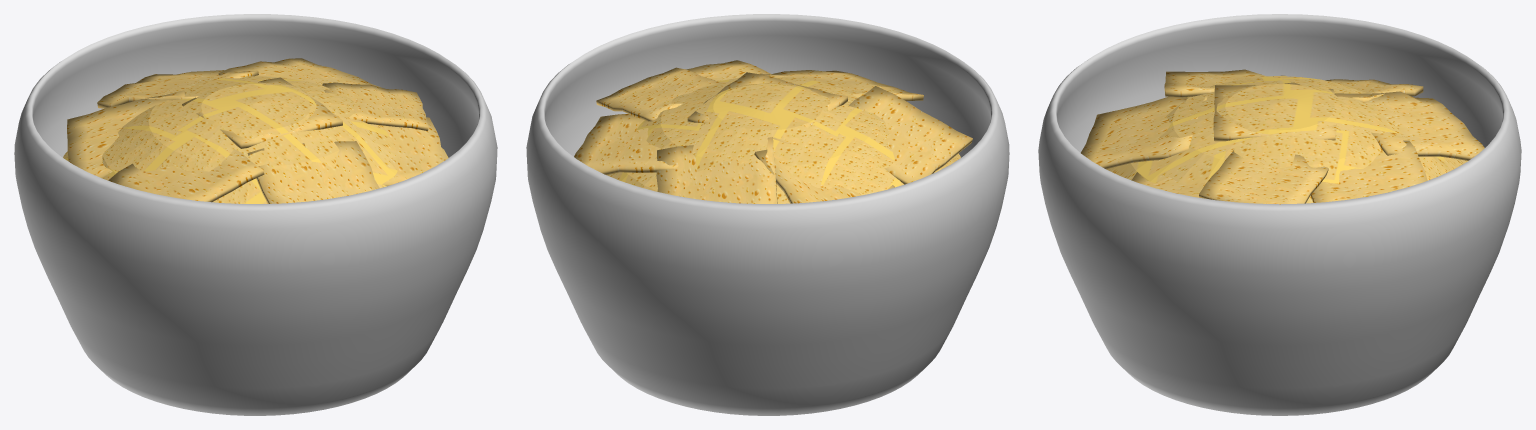
File: cheese_slice_bowl.fbx
The picture shows the model from 3 angles, left to right: view 1: azimuth 30°, elevation 25°; view 2: azimuth 150°, elevation 25°; view 3: azimuth 270°, elevation 25°; orthographic projection.
Visible parts, largest first — view 1: Sphere, Sphere.001, cheese_slice.003, cheese_slice.005, cheese_slice.004, cheese_slice.002, cheese_slice.007, cheese_slice.001, cheese_slice, cheese_slice.006; view 2: Sphere, Sphere.001, cheese_slice.005, cheese_slice.007, cheese_slice, cheese_slice.002, cheese_slice.004, cheese_slice.003, cheese_slice.006, cheese_slice.001; view 3: Sphere, Sphere.001, cheese_slice.007, cheese_slice.003, cheese_slice.002, cheese_slice, cheese_slice.005, cheese_slice.006, cheese_slice.004, cheese_slice.001.
Part boxes in pixels (box(x1,y1,x2,y2)): Sphere: box(14, 14, 497, 415); Sphere.001: box(63, 76, 448, 203); cheese_slice.003: box(247, 141, 379, 203); cheese_slice.005: box(108, 149, 264, 202); cheese_slice.004: box(67, 90, 185, 178); cheese_slice.002: box(322, 82, 428, 130); cheese_slice.007: box(97, 70, 258, 108); cheese_slice.001: box(382, 117, 446, 186); cheese_slice: box(218, 58, 380, 87); cheese_slice.006: box(182, 77, 342, 148); Sphere: box(526, 14, 1009, 415); Sphere.001: box(607, 76, 960, 203); cheese_slice.005: box(848, 86, 972, 184); cheese_slice.007: box(656, 137, 777, 203); cheese_slice: box(574, 114, 678, 175); cheese_slice.002: box(596, 67, 722, 121); cheese_slice.004: box(754, 149, 894, 203); cheese_slice.003: box(760, 70, 923, 101); cheese_slice.006: box(687, 72, 847, 143); cheese_slice.001: box(686, 60, 771, 81); Sphere: box(1038, 14, 1521, 415); Sphere.001: box(1106, 76, 1467, 203); cheese_slice.007: box(1334, 91, 1484, 160); cheese_slice.003: box(1081, 94, 1207, 169); cheese_slice.002: box(1199, 150, 1328, 204); cheese_slice: box(1310, 140, 1427, 202); cheese_slice.005: box(1164, 69, 1286, 96); cheese_slice.006: box(1213, 82, 1336, 141); cheese_slice.004: box(1325, 79, 1423, 102); cheese_slice.001: box(1131, 172, 1206, 197).
Size of the model in its own units: 39.86 by 22.51 by 39.86.
10 materials, 9 textured.
